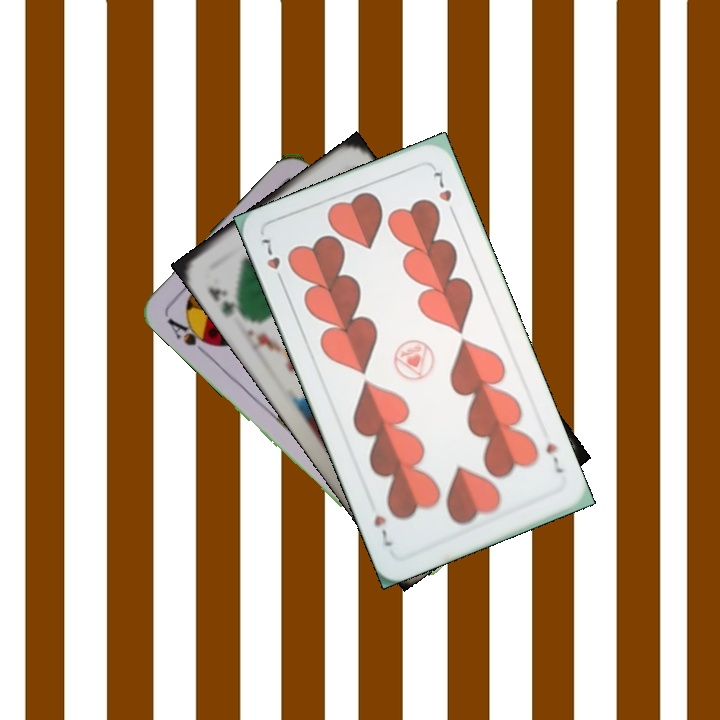GK: (203, 282, 244, 319)
H7: (257, 234, 287, 288), (542, 439, 566, 476)
SA: (163, 313, 216, 357)
